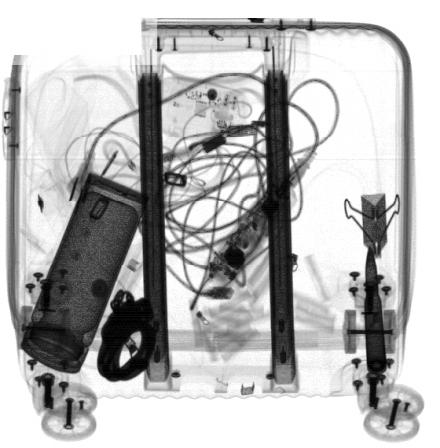Bullet: (363, 243, 386, 374)
HandCuffs: (97, 284, 157, 383)
